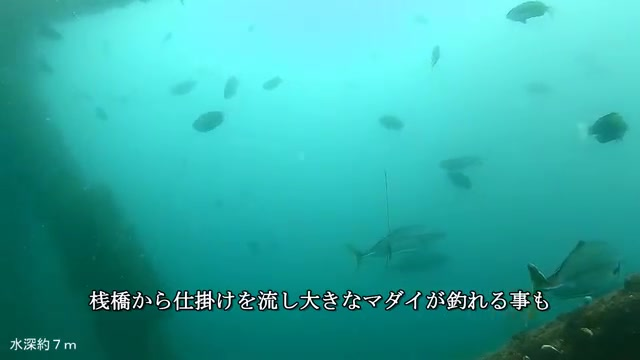smallfish: (578, 106, 633, 147)
